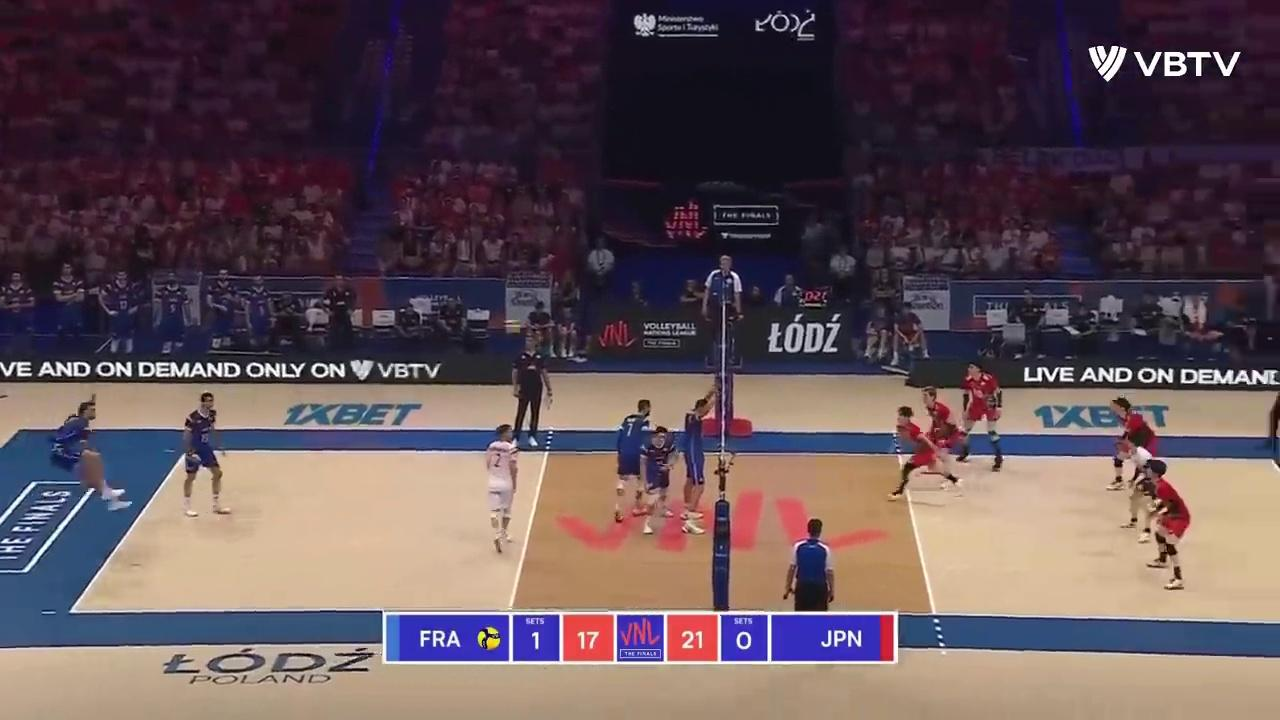ball: (502, 318, 522, 333)
